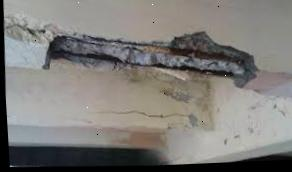exposed_rebar: (135, 44, 243, 64)
spalling: (3, 4, 260, 89)
